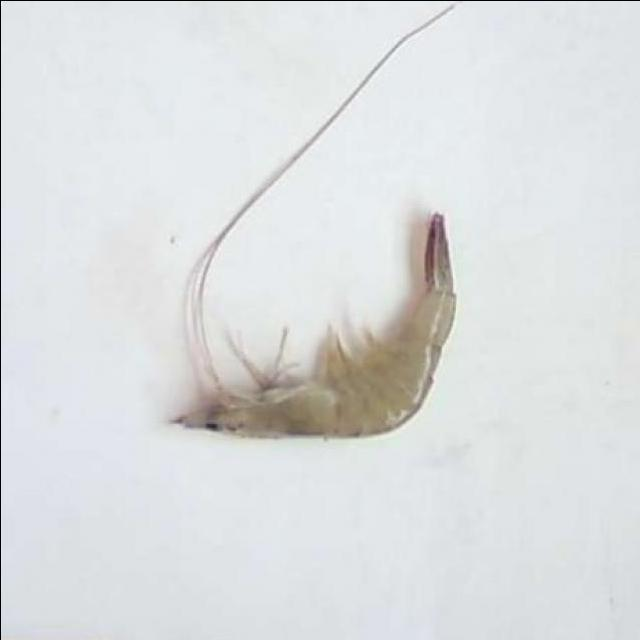shrimp: (171, 213, 455, 438)
